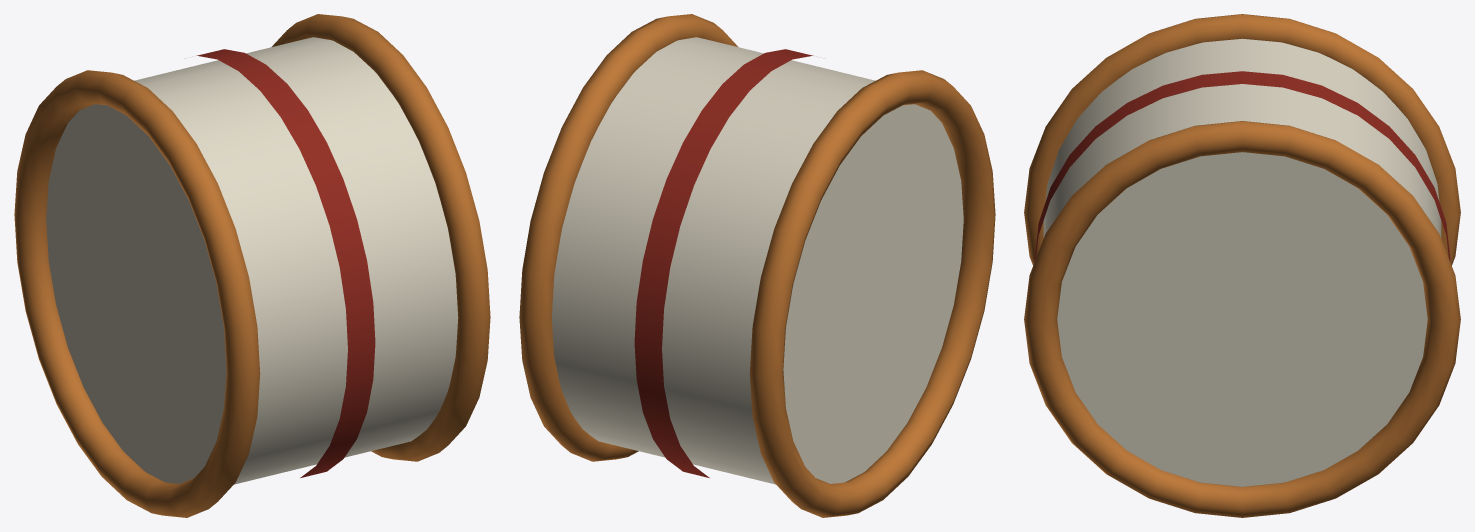
File: bass-drum.glb
3 renders of one model, left to right at view 1: azimuth 30°, elevation 25°; view 2: azimuth 150°, elevation 25°; view 3: azimuth 270°, elevation 25°, orthographic. The views are drawn at different scales.
Parts seen in each view (by area): view 1: BassDrumShell, BassDrumRim (×2), BassDrumStripe; view 2: BassDrumShell, BassDrumRim (×2), BassDrumStripe; view 3: BassDrumShell, BassDrumRim (×2), BassDrumStripe.
Boxes of the visible parts, bbox=[...] form: BassDrumShell: bbox=[46, 37, 458, 484]; BassDrumRim (×2): bbox=[14, 14, 490, 517]; BassDrumStripe: bbox=[196, 49, 375, 477]; BassDrumShell: bbox=[551, 37, 963, 484]; BassDrumRim (×2): bbox=[519, 14, 995, 517]; BassDrumStripe: bbox=[634, 49, 813, 477]; BassDrumShell: bbox=[1043, 38, 1441, 486]; BassDrumRim (×2): bbox=[1024, 14, 1460, 517]; BassDrumStripe: bbox=[1034, 71, 1450, 261].
Bounding box in the file's own units: 0.95 × 1.45 × 1.45.
